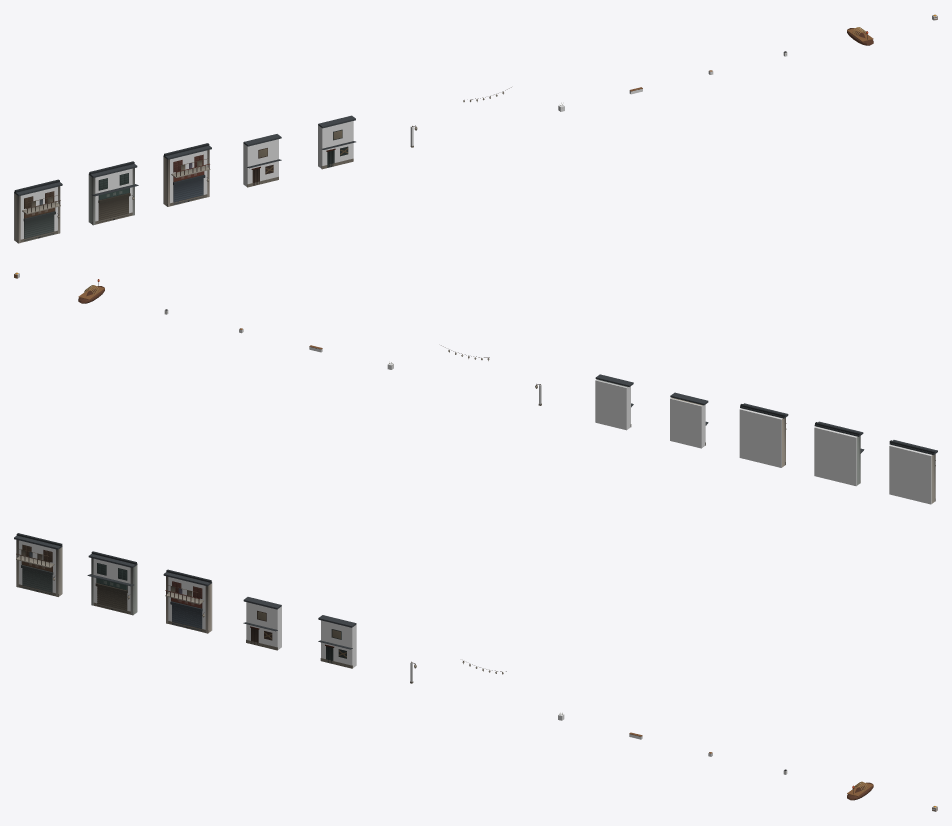
The model's file is quiet_kit.glb.
3 renders of one model, top to bottom at view 1: azimuth 30°, elevation 25°; view 2: azimuth 150°, elevation 25°; view 3: azimuth 330°, elevation 25°, orthographic.
Parts seen in each view (by area): view 1: qshop_a.001, qshop_c.001, qshop_b.001, COL_qhouse_b, COL_qhouse_a, COL_qshop_b, qhouse_a.001, qhouse_b.001, COL_qshop_c, COL_qshop_a; view 2: COL_qshop_b, COL_qshop_a, COL_qshop_c, COL_qhouse_a, COL_qhouse_b, qshop_a.001, qshop_b.001; view 3: qshop_c.001, qshop_a.001, qshop_b.001, COL_qhouse_a, COL_qhouse_b, qhouse_b.001, COL_qshop_b, qhouse_a.001, COL_qshop_c, COL_qshop_a.
Boxes of the visible parts, bbox=[...] form: qshop_a.001: bbox=[14, 179, 62, 243]; qshop_c.001: bbox=[163, 143, 211, 206]; qshop_b.001: bbox=[89, 161, 138, 225]; COL_qhouse_b: bbox=[318, 121, 353, 168]; COL_qhouse_a: bbox=[243, 139, 278, 186]; COL_qshop_b: bbox=[88, 168, 132, 221]; qhouse_a.001: bbox=[243, 134, 281, 187]; qhouse_b.001: bbox=[318, 115, 355, 169]; COL_qshop_c: bbox=[163, 150, 207, 203]; COL_qshop_a: bbox=[14, 187, 57, 240]; COL_qshop_b: bbox=[814, 426, 857, 486]; COL_qshop_a: bbox=[889, 445, 931, 504]; COL_qshop_c: bbox=[739, 408, 782, 467]; COL_qhouse_a: bbox=[670, 398, 705, 448]; COL_qhouse_b: bbox=[595, 380, 630, 430]; qshop_a.001: bbox=[889, 440, 937, 503]; qshop_b.001: bbox=[814, 421, 864, 485]; qshop_c.001: bbox=[163, 569, 211, 633]; qshop_a.001: bbox=[14, 533, 62, 596]; qshop_b.001: bbox=[87, 551, 137, 615]; COL_qhouse_a: bbox=[246, 602, 281, 649]; COL_qhouse_b: bbox=[321, 620, 356, 667]; qhouse_b.001: bbox=[318, 615, 356, 668]; COL_qshop_b: bbox=[93, 558, 137, 612]; qhouse_a.001: bbox=[243, 597, 281, 650]; COL_qshop_c: bbox=[168, 577, 212, 630]; COL_qshop_a: bbox=[19, 540, 62, 593].
Bounding box in the file's own units: 123 × 6.85 × 5.04.
